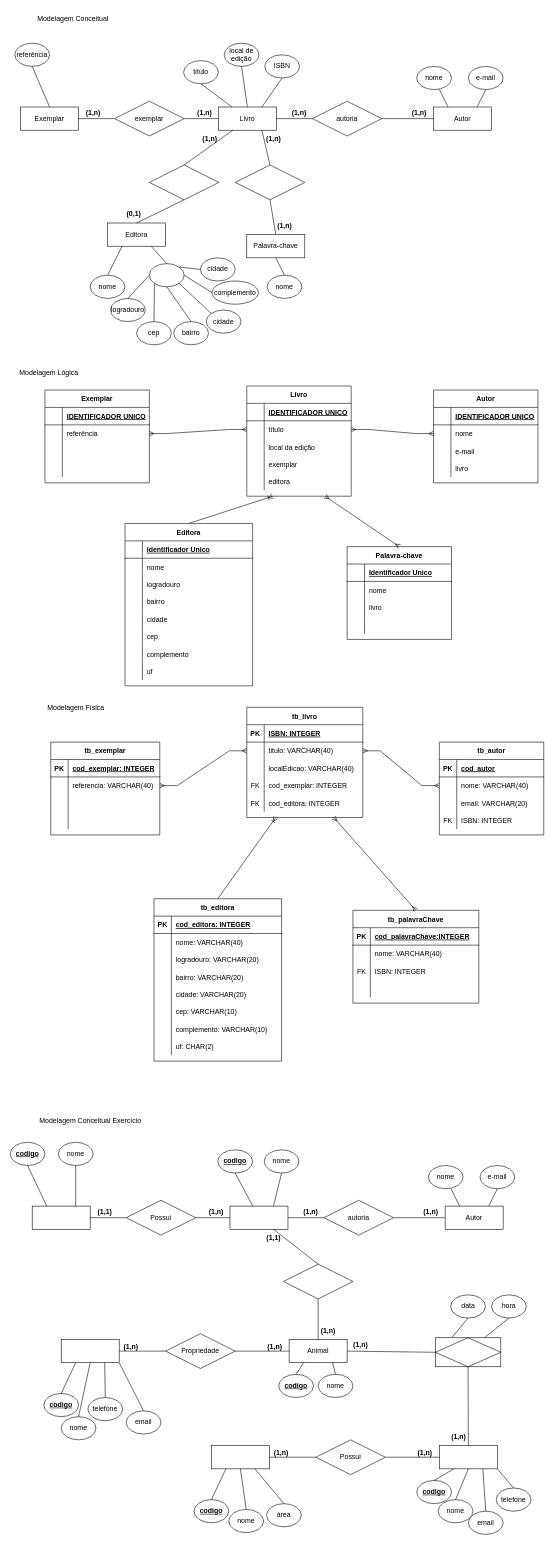
Some shapes in this 554 by 1545 pixel diagram are drawn without their labels. Here are the shapes that lost their labels. From the top down, the centre of each, then its label:
At (184,182): "edição".
At (270,182): "indexação".
At (166,275): "endereço".
At (61,1217): "Espécie".
At (258,1217): "Raça".
At (318,1281): "Tem".
At (90,1351): "Dono".
At (468,1352): "Consulta".
At (240,1457): "Especialização".
At (468,1457): "Veterinário".
